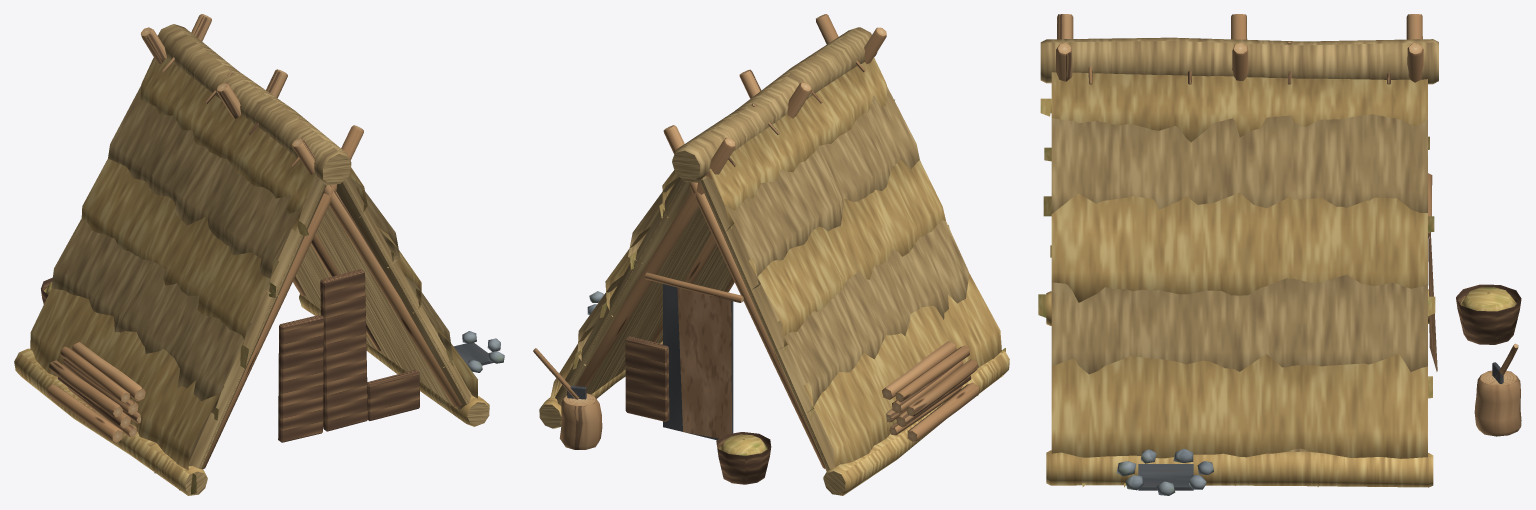
File: bw_shelter.fbx
3 renders of one model, left to right at view 1: azimuth 30°, elevation 25°; view 2: azimuth 150°, elevation 25°; view 3: azimuth 270°, elevation 25°, orthographic. The views are drawn at different scales.
Visible parts, largest first — view 1: bw_shelter; view 2: bw_shelter; view 3: bw_shelter.
Part boxes in pixels (box(x1,y1,x2,y2)): bw_shelter: box(14, 14, 504, 495); bw_shelter: box(533, 14, 1009, 495); bw_shelter: box(1038, 14, 1521, 495).
Size of the model in its own units: 2.83 by 2.27 by 2.62.
